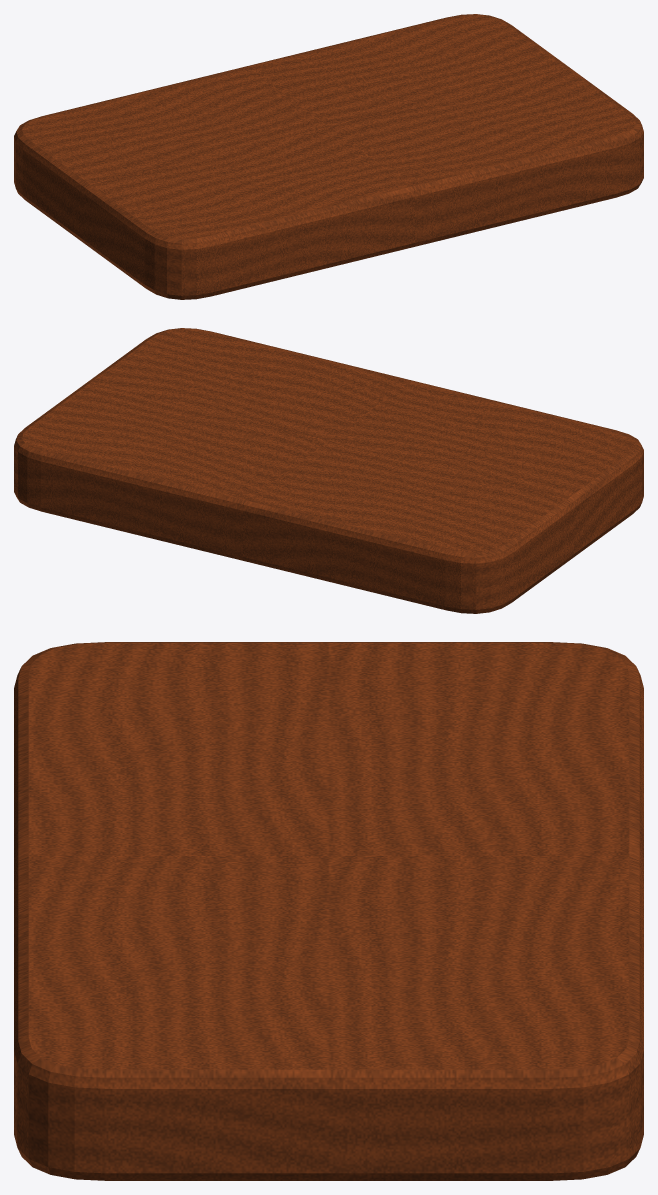
The model's file is wood.glb.
3 renders of one model, top to bottom at view 1: azimuth 30°, elevation 25°; view 2: azimuth 150°, elevation 25°; view 3: azimuth 270°, elevation 25°, orthographic. The views are drawn at different scales.
Parts seen in each view (by area): view 1: wood; view 2: wood; view 3: wood.
Part boxes in pixels (x1,y1,x2,y2): wood: (14,14,643,299); wood: (14,328,643,613); wood: (14,642,643,1180).
Size of the model in its own units: 2.01 by 0.236 by 1.22.
Materials: 1 (1 with a texture image).
